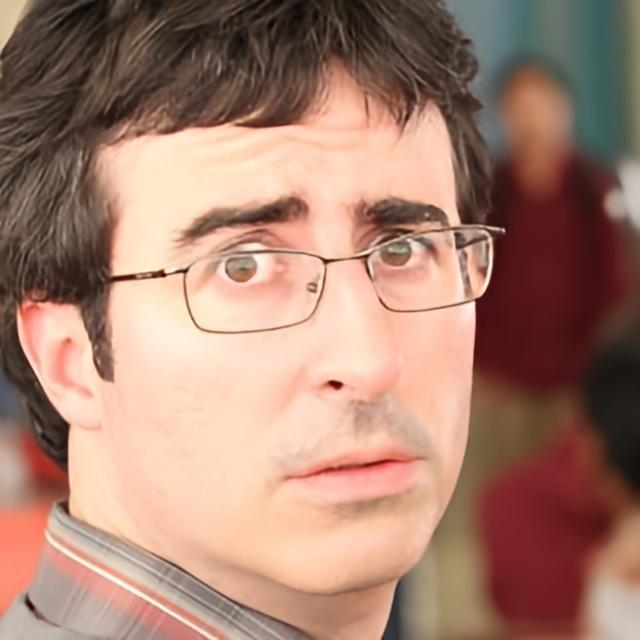fear: (102, 42, 478, 596)
